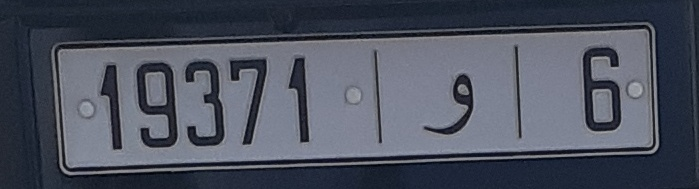1: (280, 45, 318, 149), (90, 56, 127, 156)
3: (178, 52, 227, 151)
6: (576, 36, 627, 138)
7: (226, 49, 273, 151)
9: (133, 55, 180, 154)
waw: (405, 65, 486, 143)
